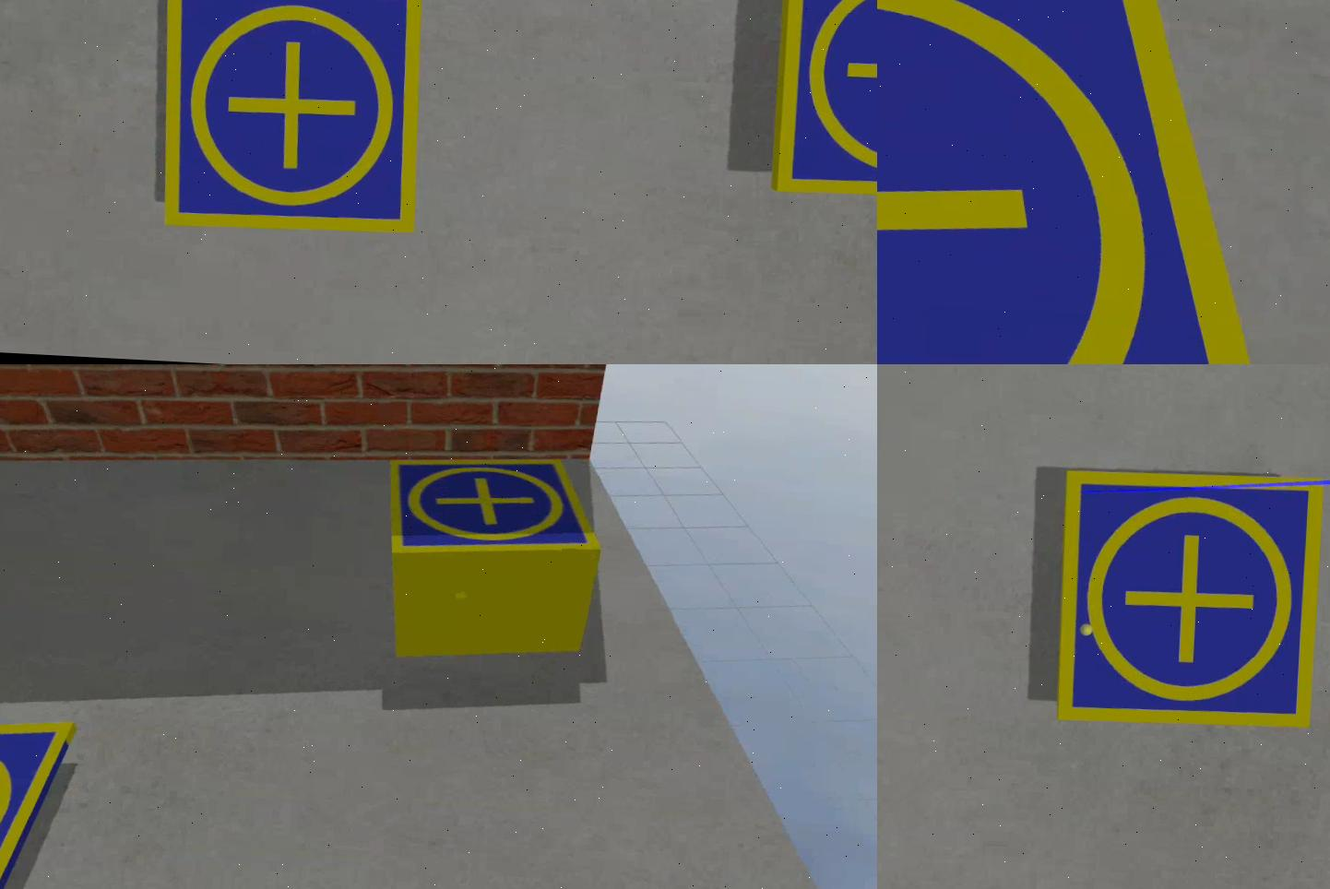small_base: (878, 1, 1330, 365), (1053, 467, 1329, 738), (153, 1, 432, 243), (386, 453, 607, 572), (773, 1, 878, 200), (1, 717, 77, 889)
